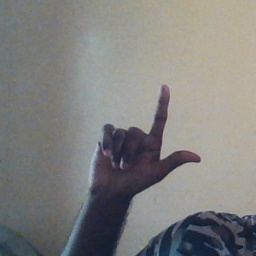L: (84, 83, 203, 193)
